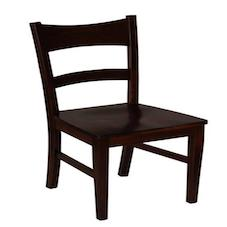chair: (17, 3, 210, 217)
